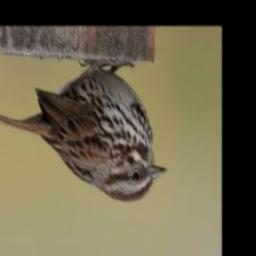Sparrow: (0, 58, 166, 202)
